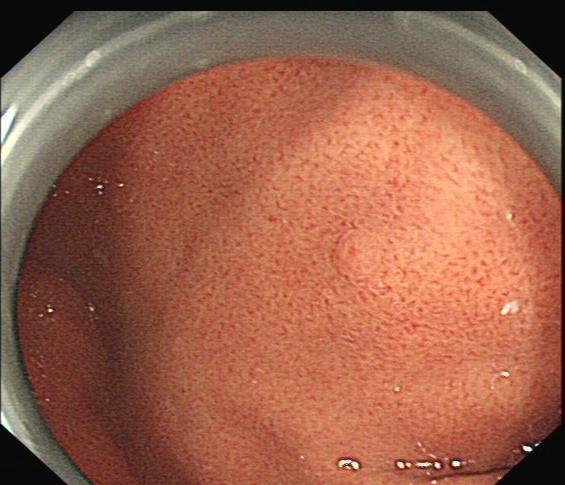Polyp: (334, 226, 385, 277)
